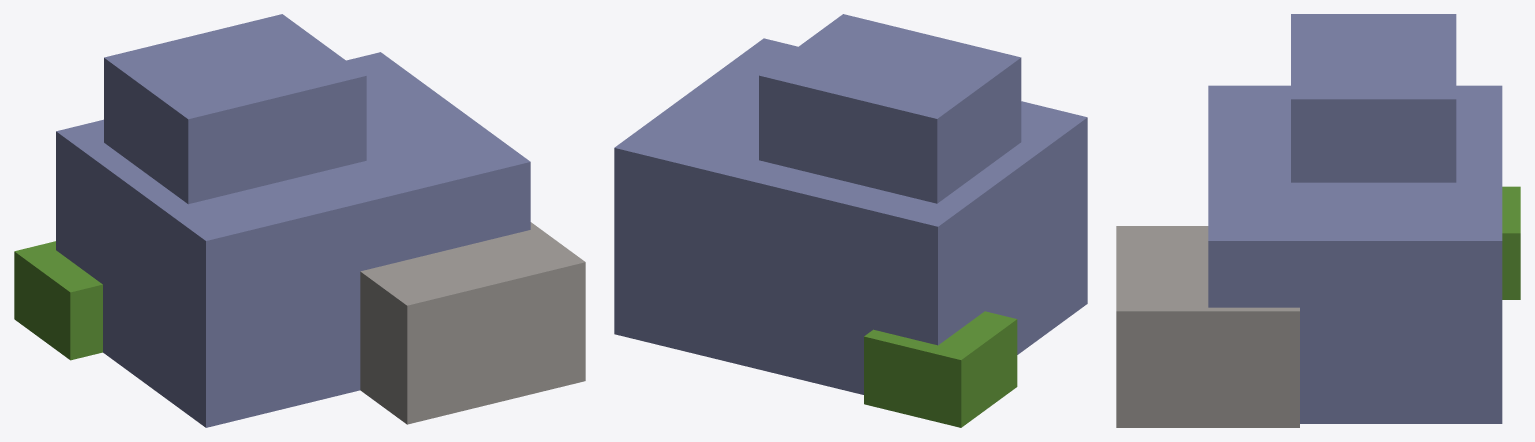
Rendered from SmallRock.glb.
The picture shows the model from 3 angles, left to right: view 1: azimuth 30°, elevation 25°; view 2: azimuth 150°, elevation 25°; view 3: azimuth 270°, elevation 25°; orthographic projection. The views are drawn at different scales.
Visible parts, largest first — view 1: SmallRock; view 2: SmallRock; view 3: SmallRock.
Boxes of the visible parts, left/top/right/bottom form: SmallRock: left=14, top=14, right=585, bottom=427; SmallRock: left=614, top=14, right=1087, bottom=427; SmallRock: left=1116, top=14, right=1520, bottom=427.
Bounding box in the file's own units: 2.25 × 1.6 × 2.2.
1 material, 1 textured.
